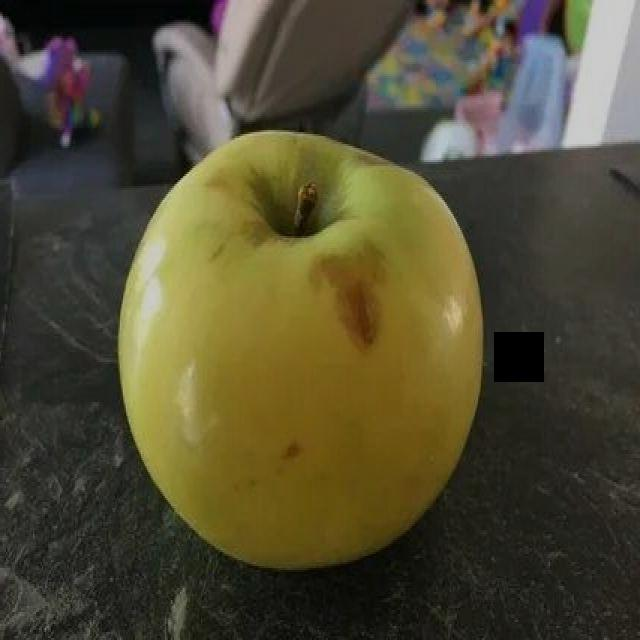green apple: (116, 127, 485, 572)
